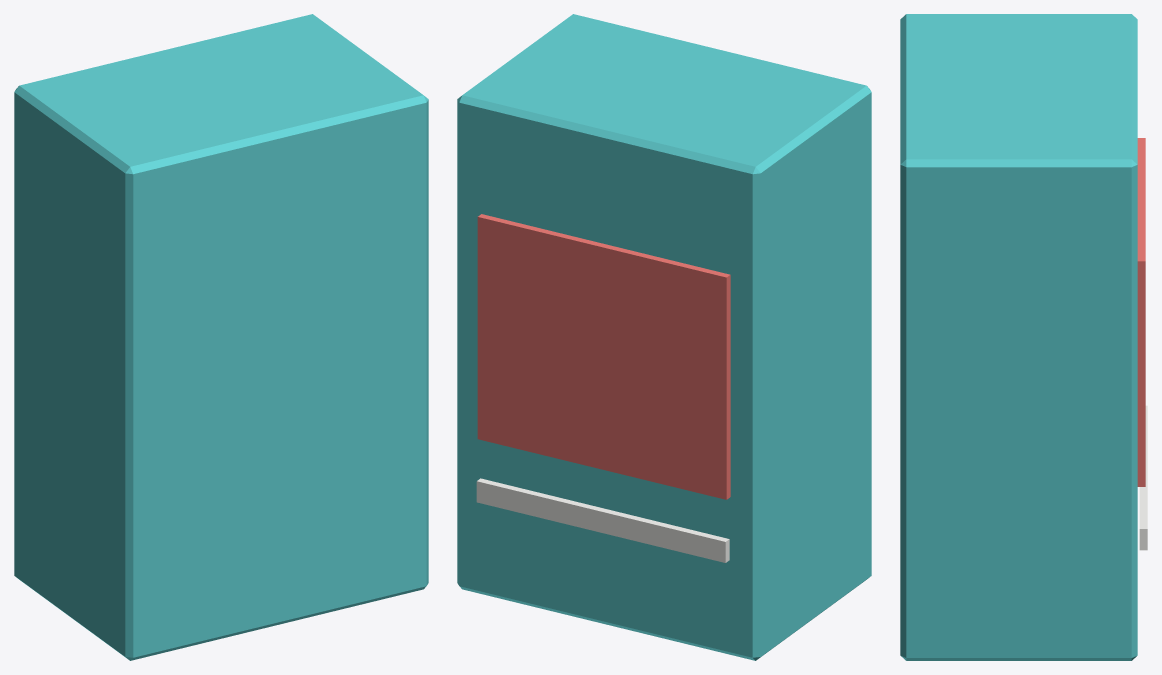
File: Caja_Cereales.fbx
3 renders of one model, left to right at view 1: azimuth 30°, elevation 25°; view 2: azimuth 150°, elevation 25°; view 3: azimuth 270°, elevation 25°, orthographic.
Visible parts, largest first — view 1: Caja_Cereales | Caja; view 2: Caja_Cereales | Caja, Caja_Cereales | Etiqueta, Caja_Cereales | Franja; view 3: Caja_Cereales | Caja, Caja_Cereales | Etiqueta, Caja_Cereales | Franja.
Part boxes in pixels (x1,y1,x2,y2): Caja_Cereales | Caja: [14, 14, 428, 660]; Caja_Cereales | Caja: [457, 14, 871, 660]; Caja_Cereales | Etiqueta: [477, 214, 730, 499]; Caja_Cereales | Franja: [476, 478, 729, 562]; Caja_Cereales | Caja: [900, 14, 1137, 660]; Caja_Cereales | Etiqueta: [1137, 138, 1145, 486]; Caja_Cereales | Franja: [1139, 405, 1147, 550].
Bounding box in the file's own units: 0.18 × 0.28 × 0.125.
